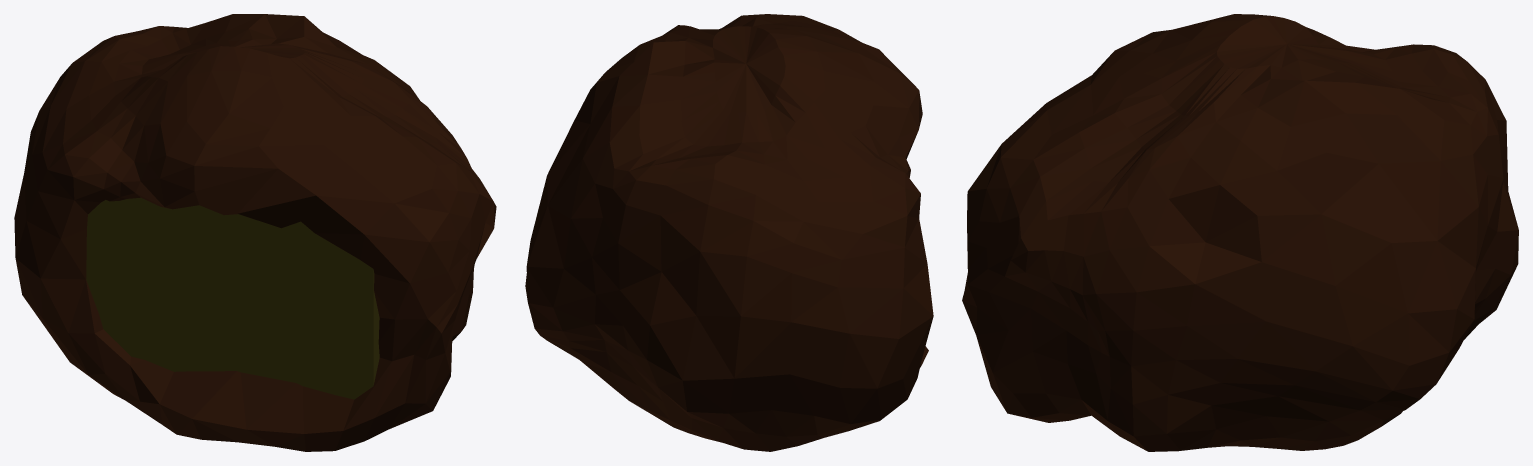
Rendered from Rock 3.fbx.
3 views of the same model, side by side, from view 1: azimuth 30°, elevation 25°; view 2: azimuth 150°, elevation 25°; view 3: azimuth 270°, elevation 25° (orthographic). The views are drawn at different scales.
Parts seen in each view (by area): view 1: Sphere.001, Cube; view 2: Sphere.001; view 3: Sphere.001.
Part boxes in pixels (box(x1,y1,x2,y2)): Sphere.001: box(14, 14, 496, 451); Cube: box(86, 197, 379, 399); Sphere.001: box(525, 14, 933, 451); Sphere.001: box(962, 14, 1518, 451).
Bounding box in the file's own units: 182 × 167 × 212.
